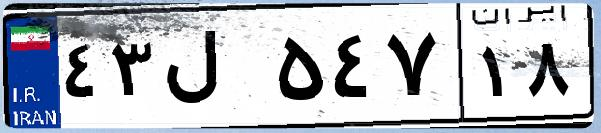1: (475, 38, 525, 113)
3: (110, 28, 158, 98)
4: (330, 28, 385, 110), (57, 26, 110, 100)
5: (270, 28, 330, 110)
7: (385, 28, 445, 110)
8: (525, 38, 570, 115)
ل: (158, 20, 270, 120)
